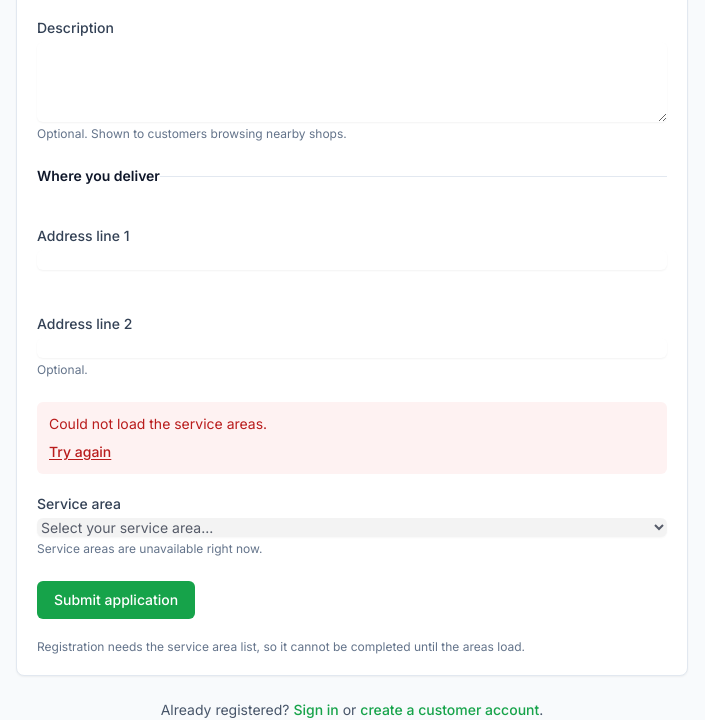
Test case: VendorRegisterPage › location loading states › explains a failed location fetch and can retry it
(page scrolled)
Expected: the text "Could not load the service areas." is shown, [49,415,267,432]
Expected: the dropdown labelled "Service area" is disabled, [37,518,667,537]
Click the button "Try again": (80, 452) [49,442,111,462]
(page scrolled)
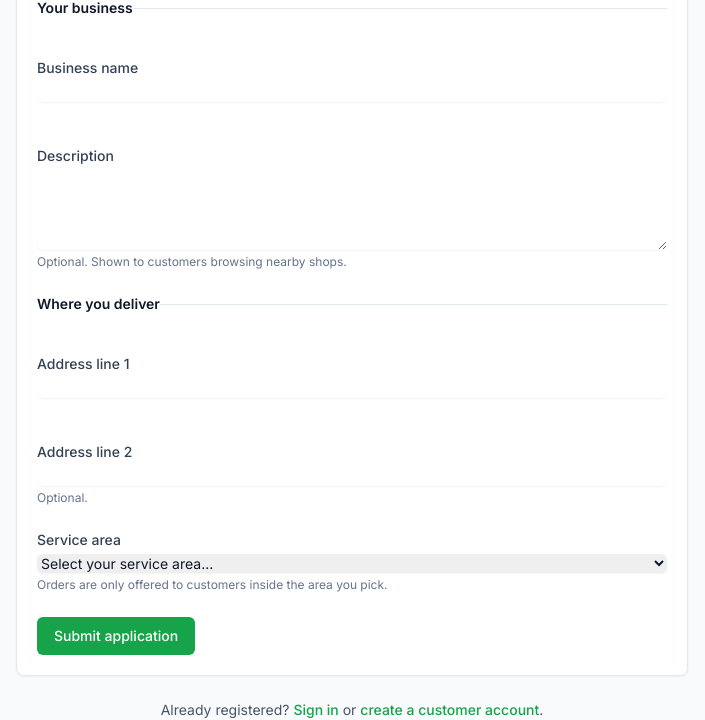
Expected: the dropdown labelled "Service area" is enabled, [37,554,667,573]
